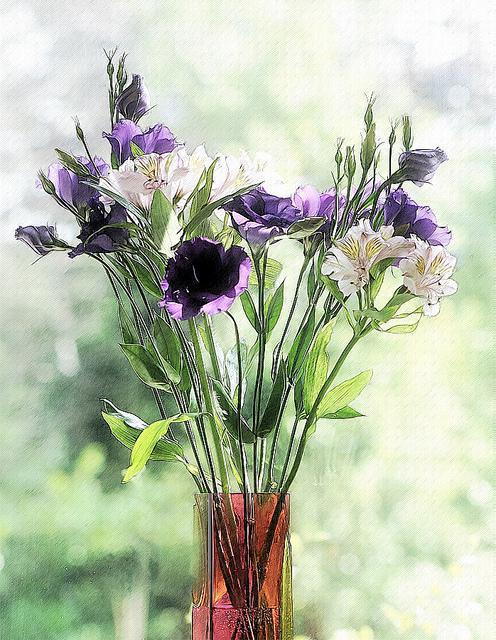Matera: (26, 65, 456, 634)
